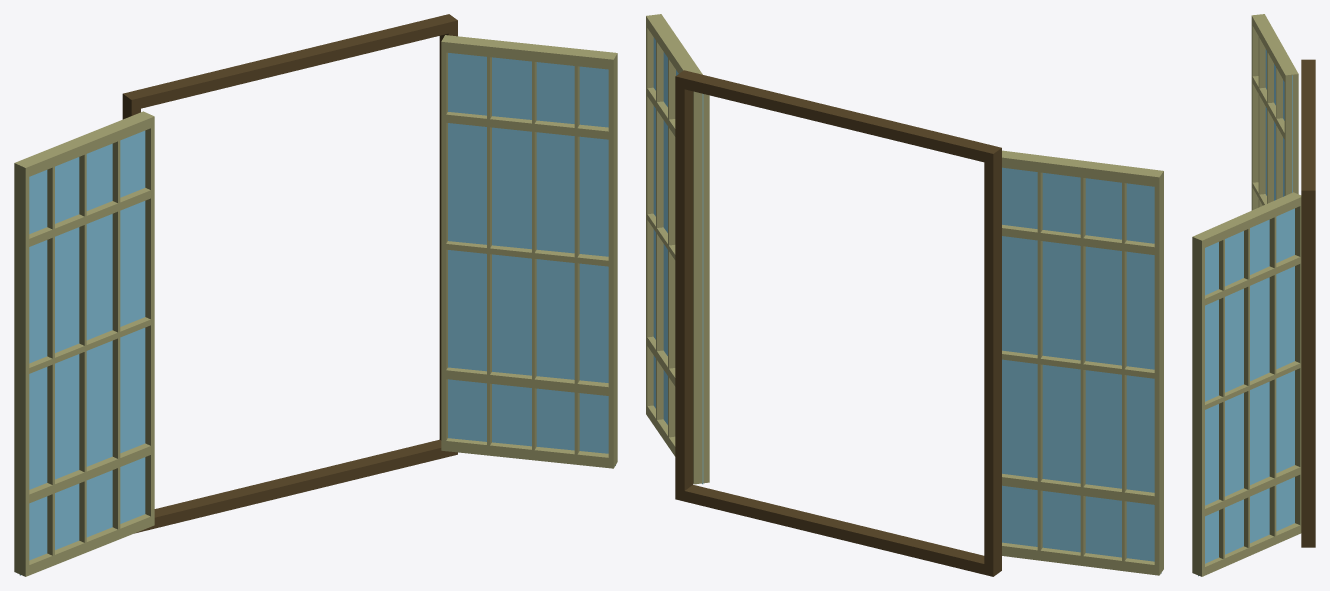
File: Open Window.fbx
The picture shows the model from 3 angles, left to right: view 1: azimuth 30°, elevation 25°; view 2: azimuth 150°, elevation 25°; view 3: azimuth 270°, elevation 25°; orthographic projection. The views are drawn at different scales.
Visible parts, largest first — view 1: pCube74, pCube69, polySurface292, polySurface290, polySurface291; view 2: pCube69, polySurface291, polySurface292, polySurface290, pCube74; view 3: pCube74, polySurface290, polySurface292, polySurface291, pCube69.
Part boxes in pixels (bbox=[...]): pCube74: bbox=[448, 53, 615, 465]; pCube69: bbox=[19, 130, 145, 575]; polySurface292: bbox=[14, 111, 154, 576]; polySurface290: bbox=[441, 35, 617, 468]; polySurface291: bbox=[122, 14, 457, 533]; pCube69: bbox=[1002, 167, 1161, 573]; polySurface291: bbox=[675, 70, 1001, 576]; polySurface292: bbox=[1002, 150, 1163, 575]; polySurface290: bbox=[646, 14, 709, 484]; pCube74: bbox=[653, 37, 703, 484]; pCube74: bbox=[1198, 208, 1294, 576]; polySurface290: bbox=[1192, 192, 1301, 576]; polySurface292: bbox=[1251, 14, 1298, 210]; polySurface291: bbox=[1301, 59, 1315, 547]; pCube69: bbox=[1265, 49, 1292, 200].
Size of the model in its own units: 11.1 by 8.15 by 2.55.
